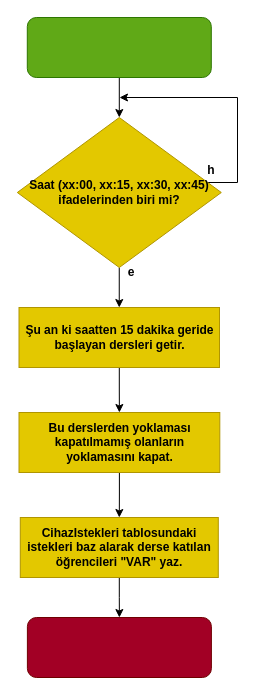
This 264x695 diagram has some shape labels left out. The centre of each missing label's shape, as x and y in pixels:
BAŞLA: the point at 118,47
BİTİR: the point at 118,647
